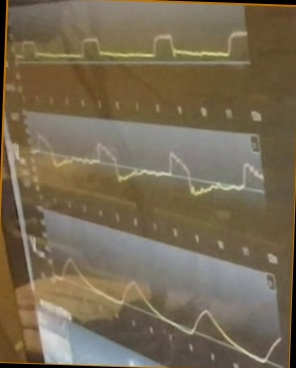Accumulation Flow: (30, 127, 263, 197)
Volume: (55, 253, 280, 362)
